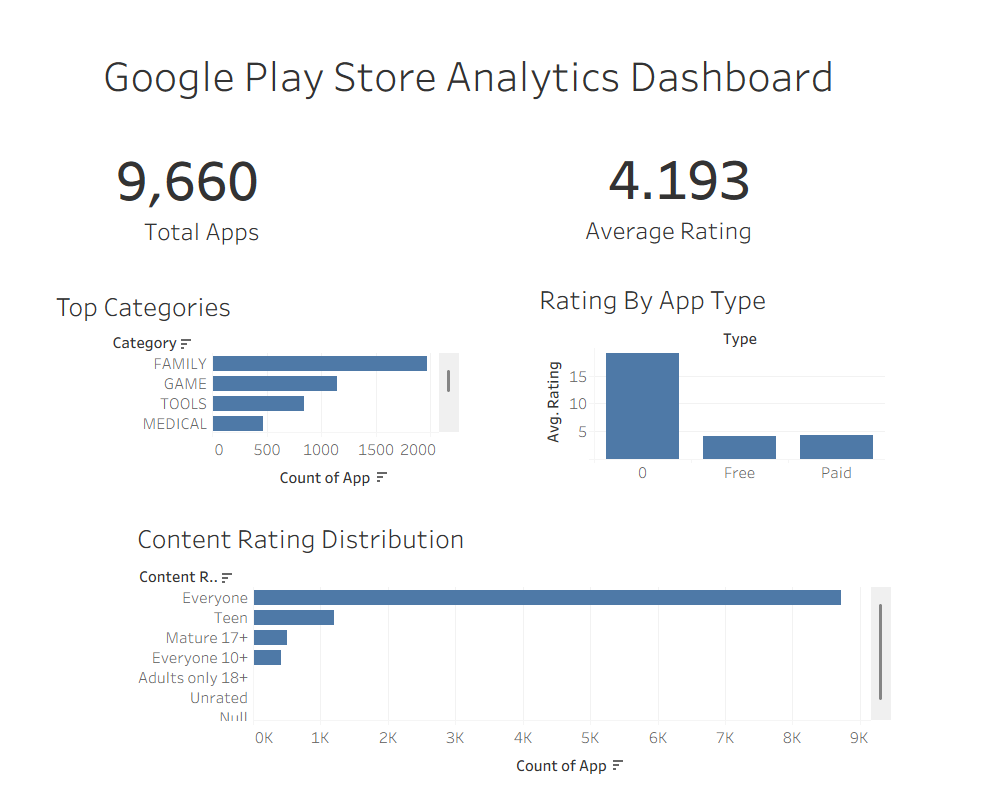

The dashboard page shown, as its layout file describes it:
{"tool":"tableau","page":{"name":"Dashboard 1","canvas":[1000,800],"ordinal":0},"visuals":[{"type":"text","box":[8,8,984,18]},{"type":"title","box":[40,16,857,119]},{"type":"worksheet","title":"Sheet 1","mark":"Automatic","box":[104,128,292,140]},{"type":"worksheet","title":"Sheet 2","mark":"Automatic","box":[576,142,266,136]},{"type":"worksheet","title":"Sheet 4","mark":"Automatic","rows":["Rating"],"cols":["Type"],"box":[535,278,350,206]},{"type":"worksheet","title":"Sheet 3","mark":"Automatic","rows":["Category"],"cols":["App"],"box":[52,285,407,210]},{"type":"worksheet","title":"Sheet 5","mark":"Automatic","rows":["Content Rating"],"cols":["App"],"box":[133,517,758,266]}]}

Visuals, with their boxes in screenshot pixels (x1, y1, x2, y2), scaled from the page's 1000x800 canvas onto the 992x797 screenshot:
text: {"left": 8, "top": 8, "right": 984, "bottom": 26}
title: {"left": 40, "top": 16, "right": 890, "bottom": 134}
"Sheet 1" worksheet: {"left": 103, "top": 128, "right": 393, "bottom": 267}
"Sheet 2" worksheet: {"left": 571, "top": 141, "right": 835, "bottom": 277}
"Sheet 4" worksheet: {"left": 531, "top": 277, "right": 878, "bottom": 482}
"Sheet 3" worksheet: {"left": 52, "top": 284, "right": 455, "bottom": 493}
"Sheet 5" worksheet: {"left": 132, "top": 515, "right": 884, "bottom": 780}
